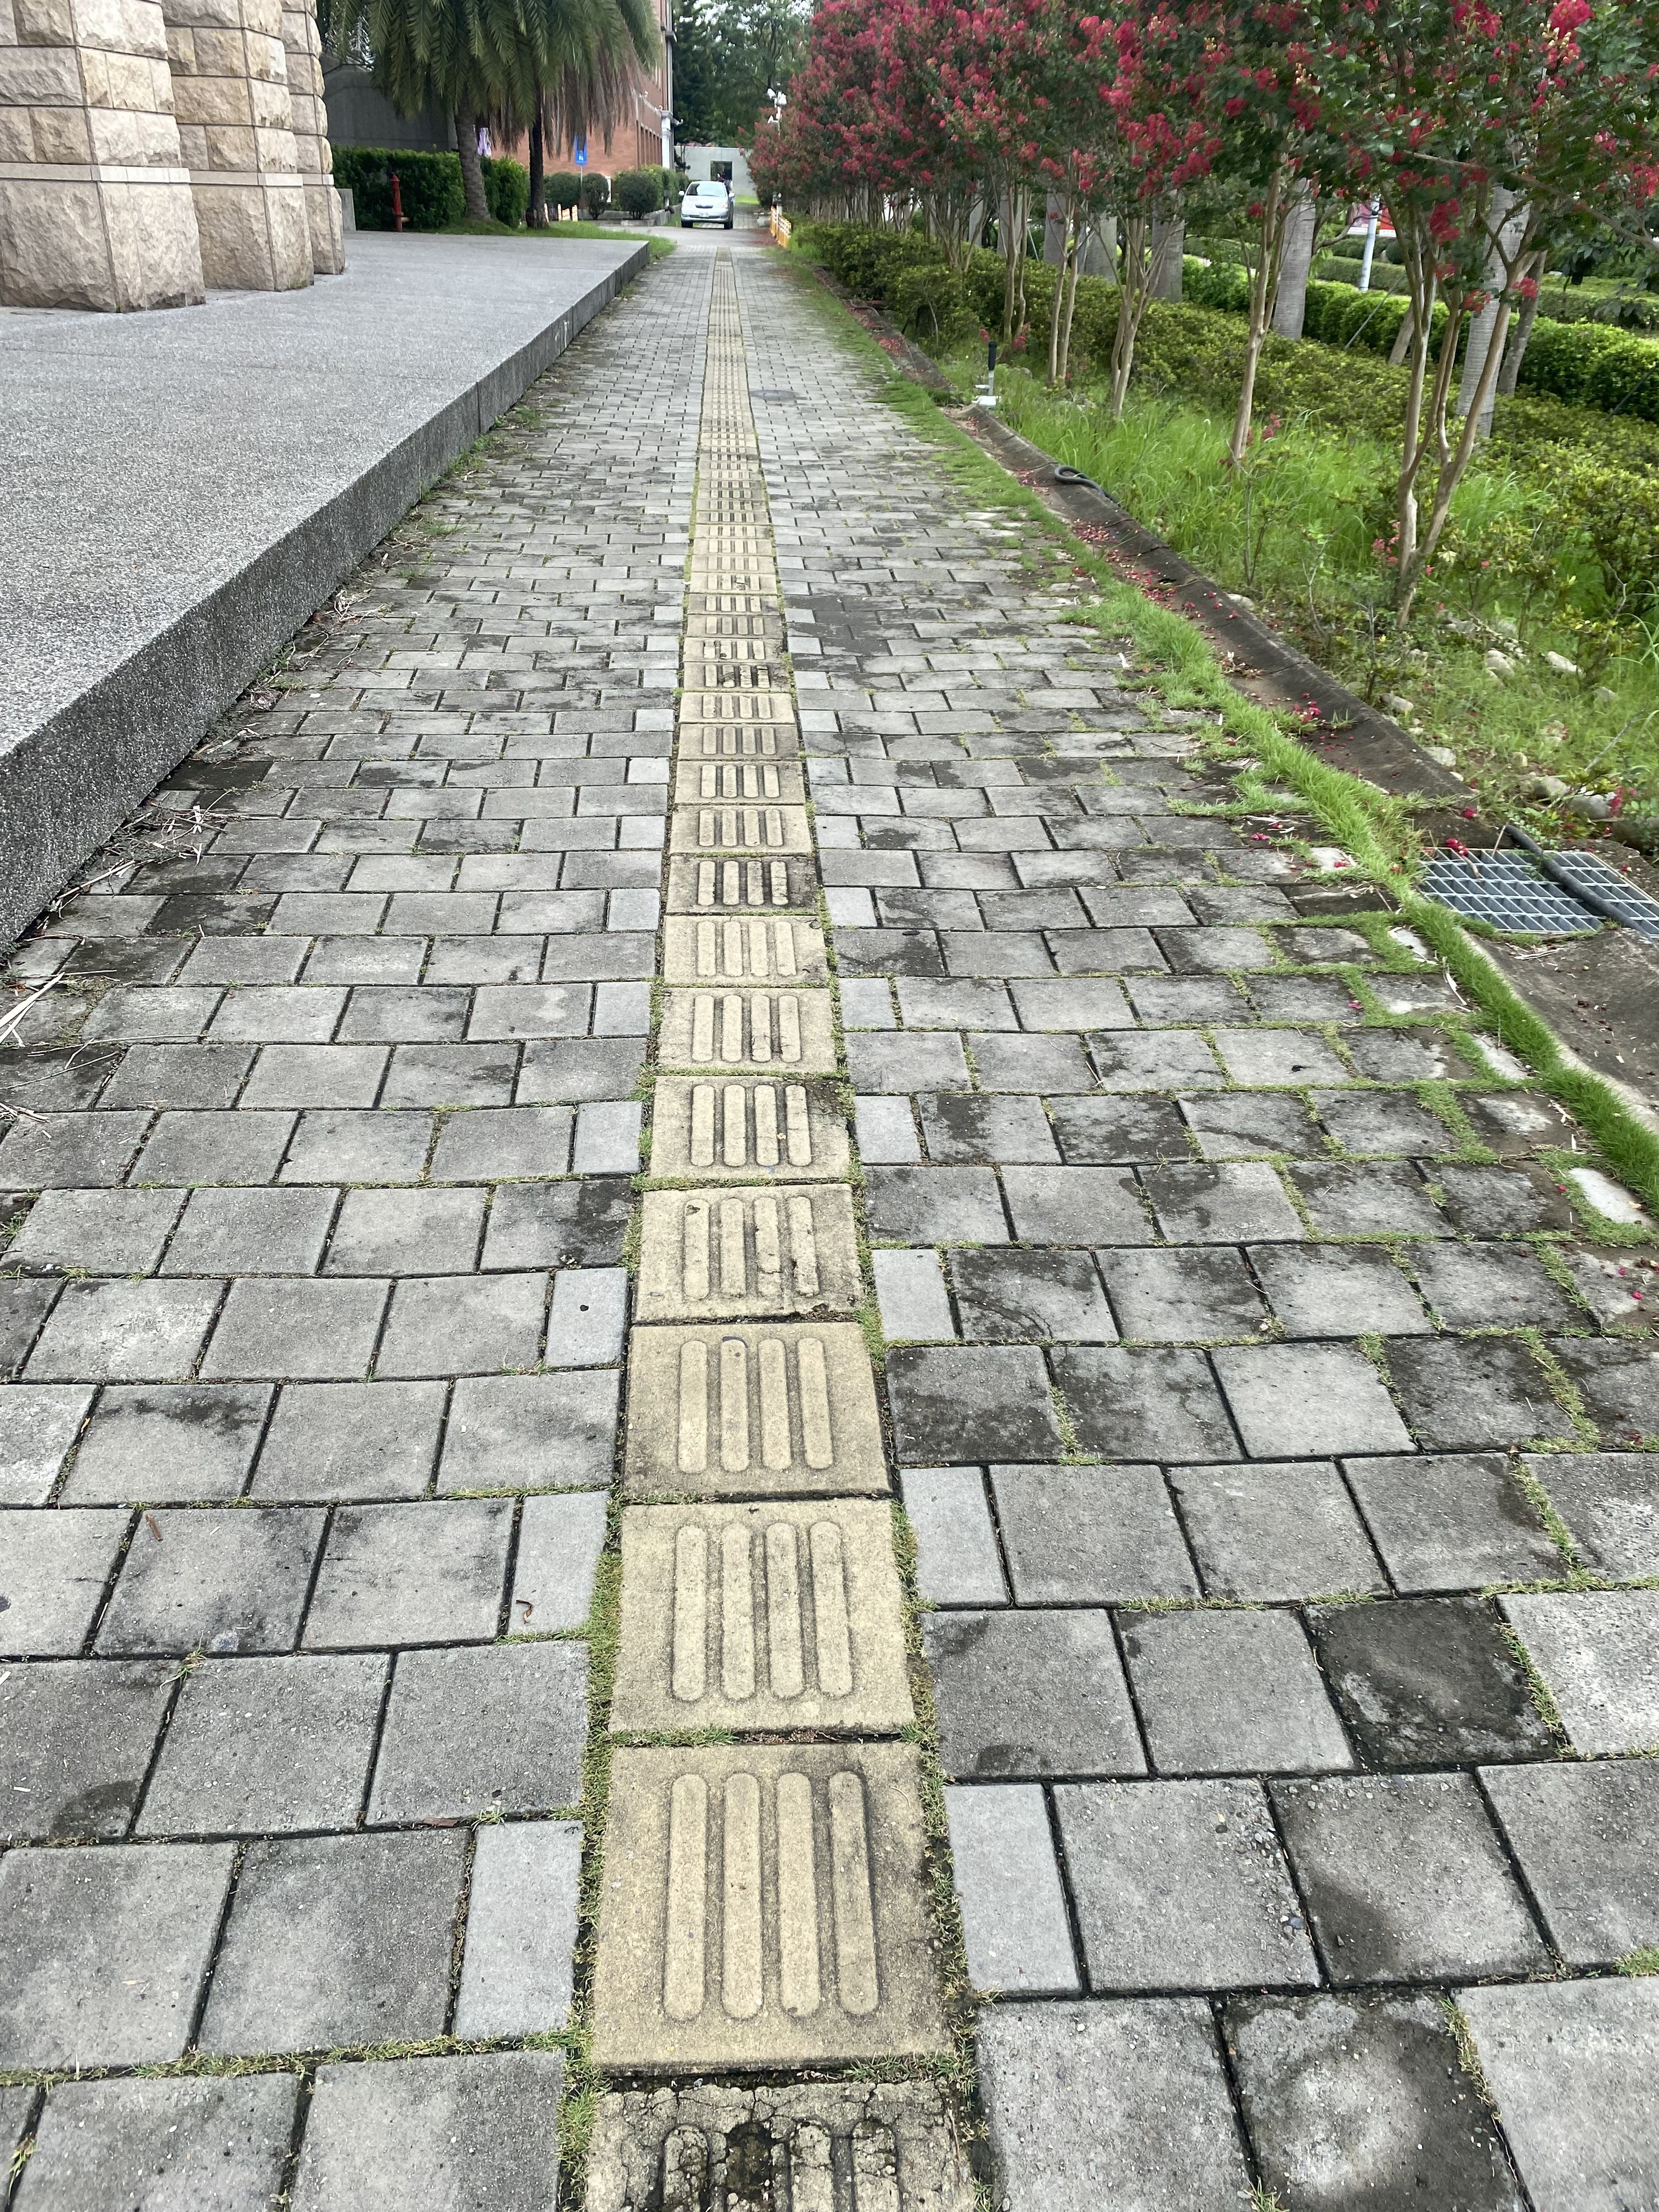0: (0, 421, 1659, 2212)
sidewalk: (477, 218, 1208, 1254)
